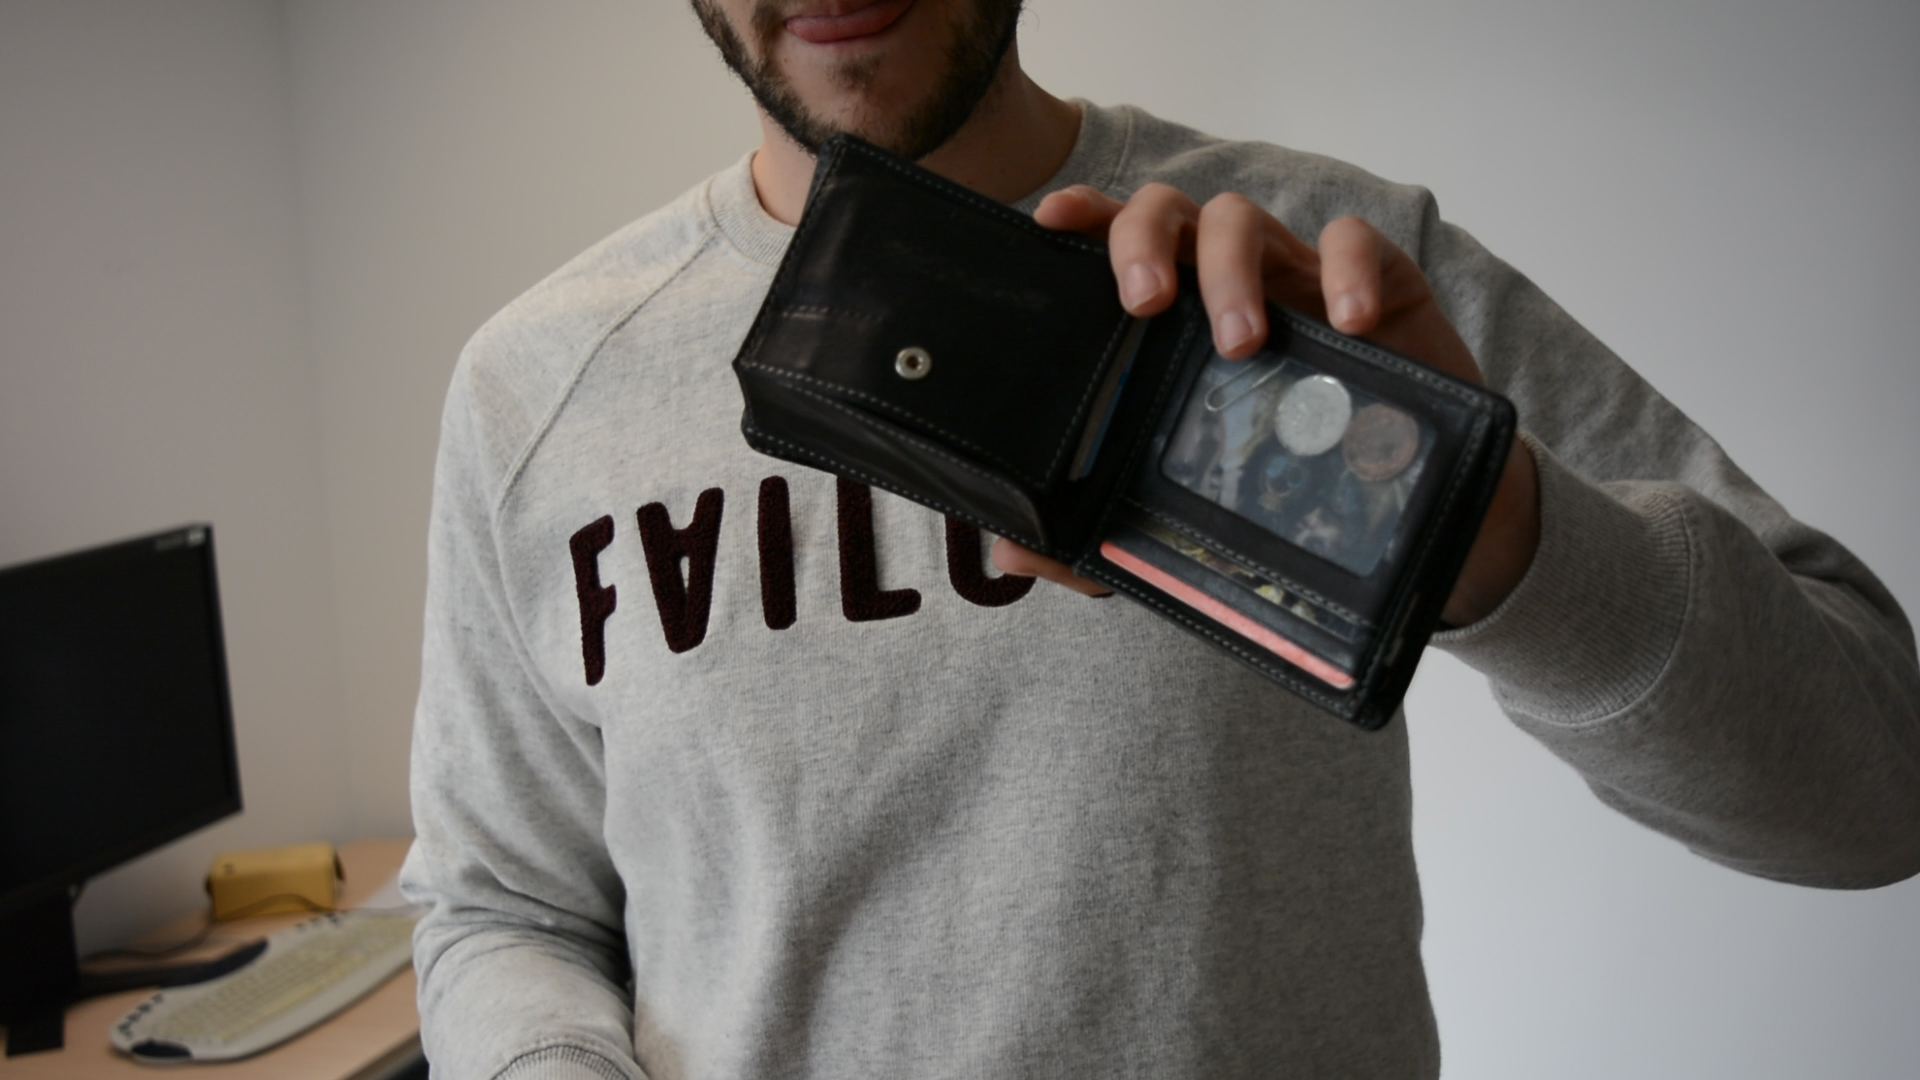monedero: (729, 129, 1522, 735)
